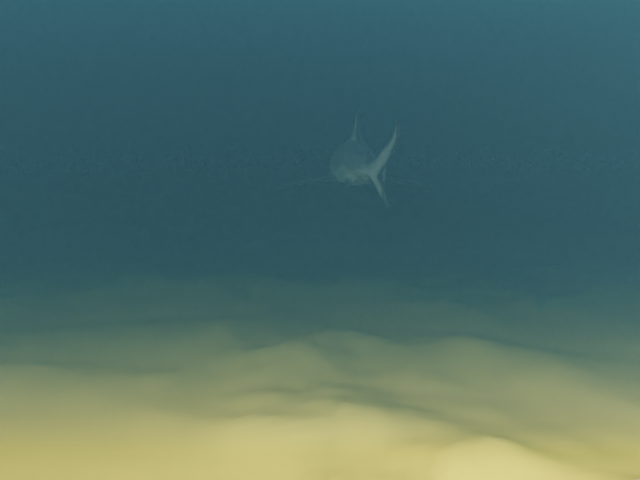Carribean Shark.001: (278, 108, 432, 207)
